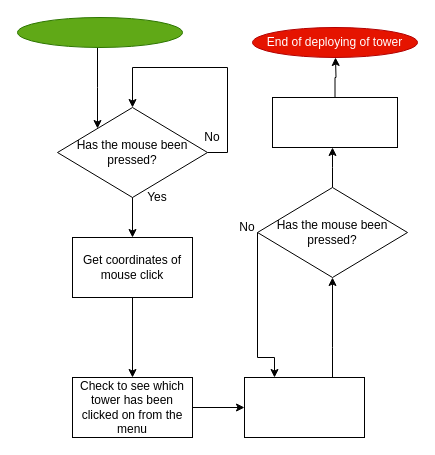
Image size: 435x455. Some labels were removed from this diagram. The shapes that lost their labels are listed below. From the top down, each one's centre as x and y in pixels, then its label:
point (99, 32): Start of deploying of tower
point (335, 122): Place tower in location of the mouse click
point (304, 407): Display the tower in the position of the cursor and follow it
